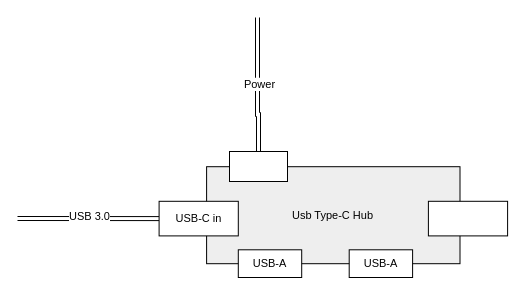
This 526x295 diagram has some shape labels left out. Each missing label, with the box of its shape:
HDMI Out: (427, 200, 508, 236)
PD Power in: (228, 150, 288, 182)
